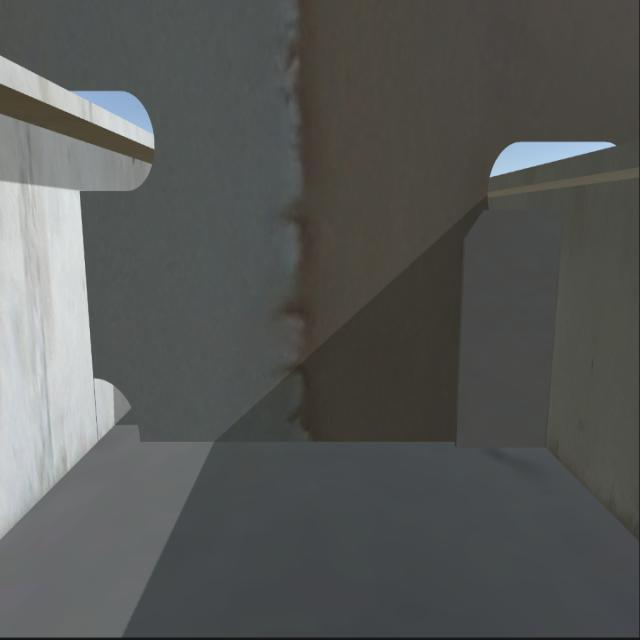fillet_hole: (94, 382, 142, 445)
fillet_yong_jeop_jang: (84, 192, 92, 381), (140, 443, 549, 444)
longi_yong_jeop_jang: (546, 213, 565, 440)
plate_CP03: (463, 211, 559, 447)
